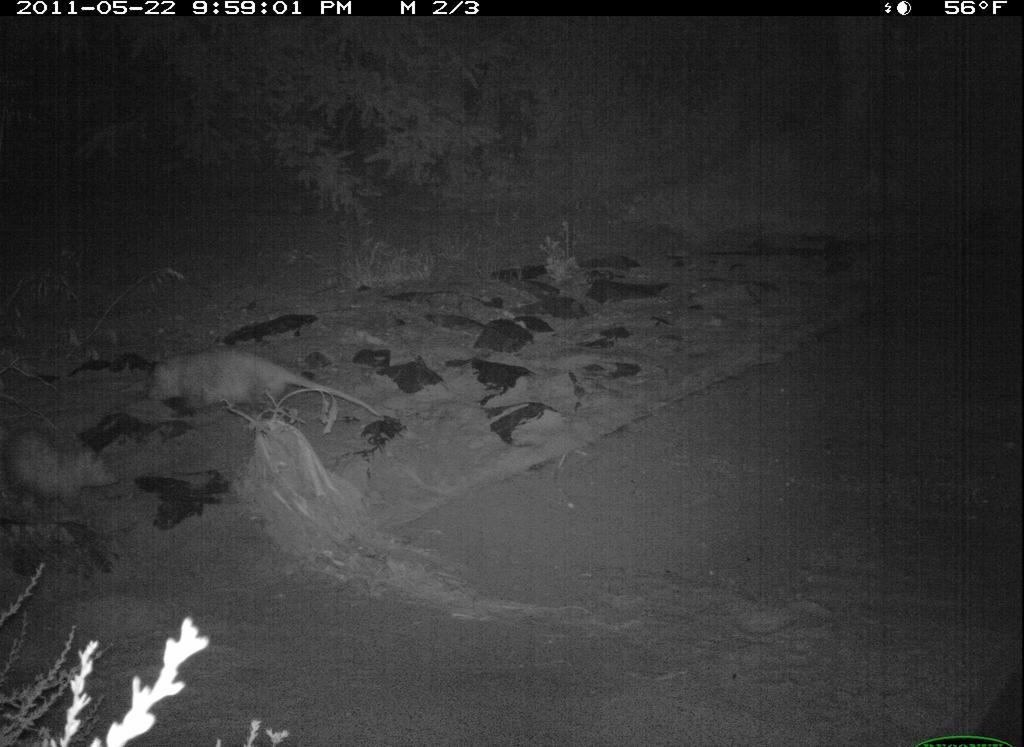opossum: (151, 326, 408, 476)
